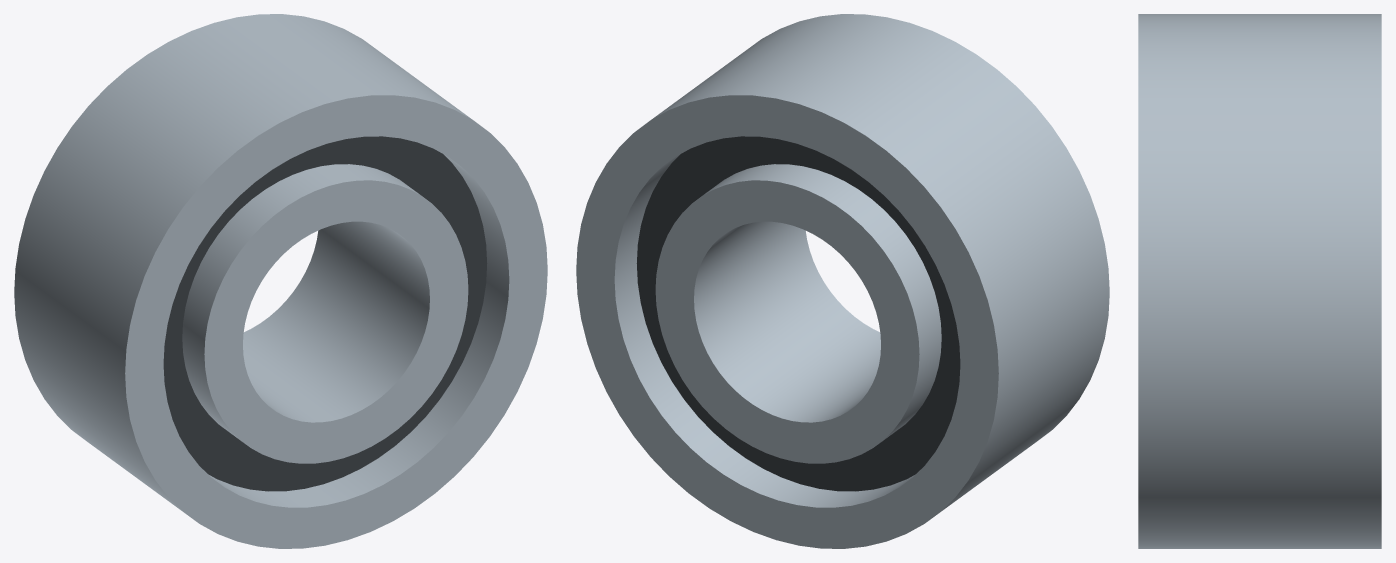
3 views of the same model, side by side, from view 1: azimuth 30°, elevation 25°; view 2: azimuth 150°, elevation 25°; view 3: azimuth 270°, elevation 25° (orthographic). The views are drawn at different scales.
Parts seen in each view (by area): view 1: mesh7, mesh8, mesh0, mesh1, mesh11, mesh10, mesh9; view 2: mesh7, mesh6, mesh2, mesh1, mesh4, mesh5, mesh3; view 3: mesh7.
Part boxes in pixels (x1,y1,x2,y2): mesh7: (14,14,472,516); mesh8: (125,95,547,548); mesh0: (204,180,468,463); mesh1: (243,221,429,422); mesh11: (163,136,487,491); mesh10: (208,154,509,507); mesh9: (182,164,419,441); mesh7: (651,14,1109,516); mesh6: (576,95,998,548); mesh2: (655,180,919,463); mesh1: (694,221,880,422); mesh4: (636,136,960,491); mesh5: (614,154,915,507); mesh3: (704,164,941,441); mesh7: (1138,14,1381,548).
Bounding box in the file's own units: 0.011 × 0.011 × 0.005.
